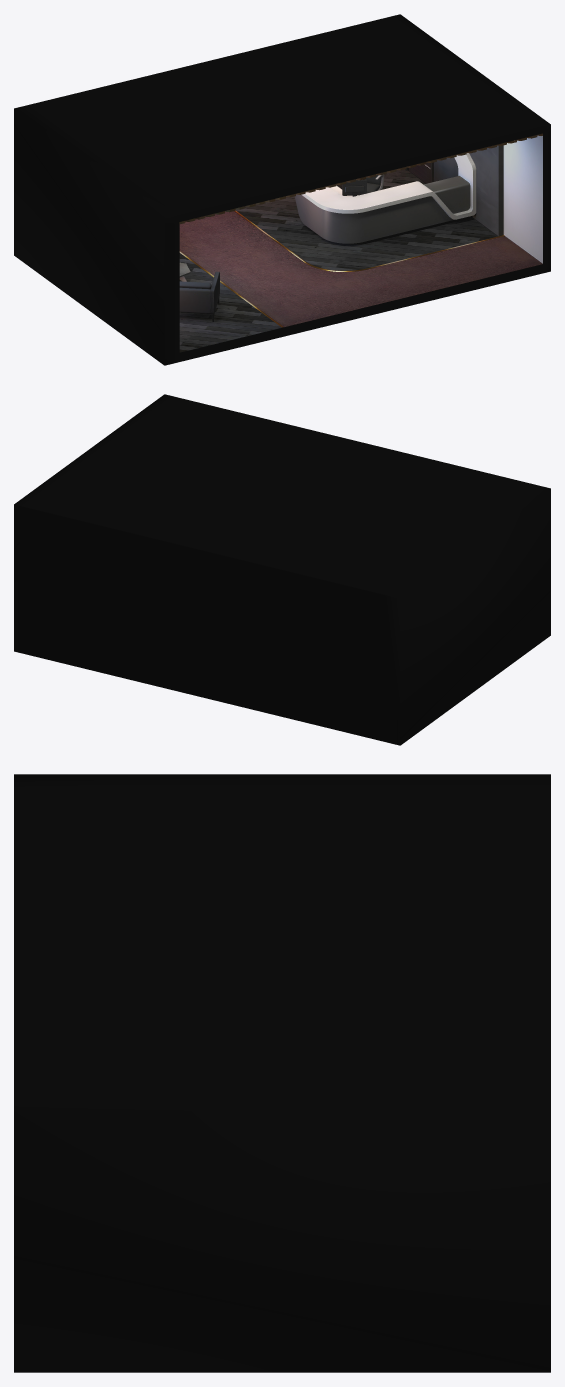
Rendered from modern_office_reception_baking.glb.
3 renders of one model, top to bottom at view 1: azimuth 30°, elevation 25°; view 2: azimuth 150°, elevation 25°; view 3: azimuth 270°, elevation 25°, orthographic. The views are drawn at different scales.
Visible parts, largest first — view 1: black-material, office_combined-material; view 2: black-material; view 3: black-material.
Boxes of the visible parts, left/top/right/bottom form: black-material: left=14, top=14, right=550, bottom=365; office_combined-material: left=179, top=133, right=542, bottom=352; black-material: left=14, top=394, right=550, bottom=745; black-material: left=14, top=774, right=550, bottom=1372.
Size of the model in its own units: 9.47 by 3.44 by 6.39.
7 materials, 4 textured.
